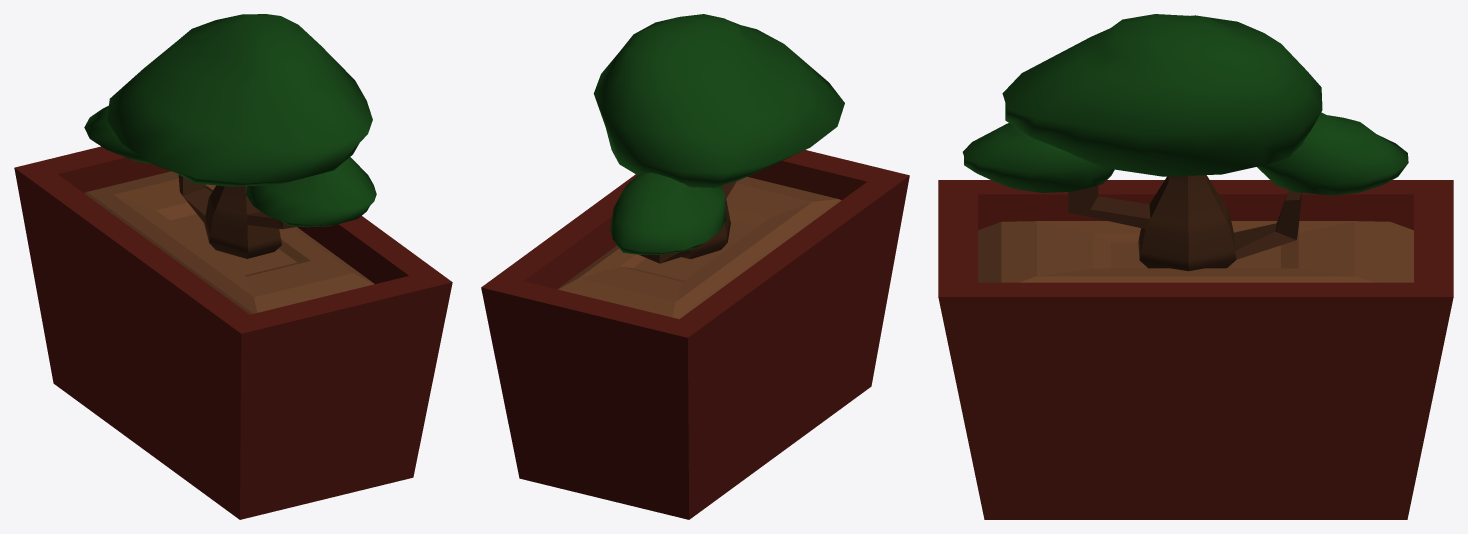
File: ColladaBonsaiTree.dae
3 renders of one model, left to right at view 1: azimuth 30°, elevation 25°; view 2: azimuth 150°, elevation 25°; view 3: azimuth 270°, elevation 25°, orthographic. The views are drawn at different scales.
Visible parts, largest first — view 1: polySurface171, pCube191, polySurface172, pCube192, pCylinder76, pCube190; view 2: polySurface171, pCube191, polySurface172, pCube190, pCylinder76; view 3: polySurface171, pCube191, polySurface172, pCylinder76, pCube190, pCube192.
Boxes of the visible parts, x1,y1,x2,y2 form: polySurface171: [14, 146, 452, 519]; pCube191: [107, 14, 372, 186]; polySurface172: [84, 171, 374, 314]; pCube192: [246, 157, 376, 227]; pCylinder76: [178, 175, 298, 258]; pCube190: [84, 105, 150, 163]; polySurface171: [481, 150, 909, 519]; pCube191: [593, 14, 844, 187]; polySurface172: [557, 177, 841, 319]; pCube190: [610, 172, 726, 254]; pCylinder76: [639, 181, 736, 263]; polySurface171: [938, 180, 1453, 519]; pCube191: [1002, 14, 1322, 176]; polySurface172: [978, 221, 1413, 282]; pCylinder76: [1068, 175, 1301, 271]; pCube190: [1257, 112, 1408, 195]; pCube192: [962, 123, 1114, 192].
Bounding box in the file's own units: 47.01 × 82.66 × 83.95.
